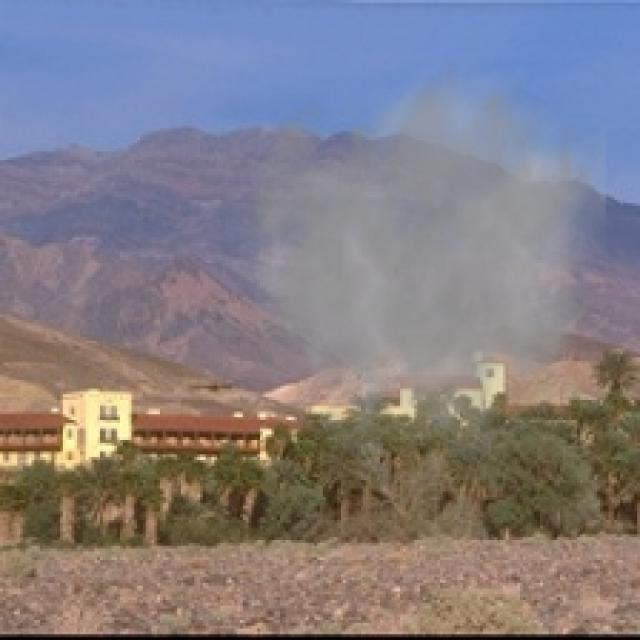smoke: (214, 57, 606, 472)
